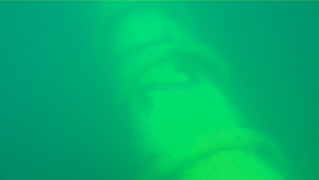2: (135, 65, 200, 116)
pipe: (91, 1, 292, 179)
